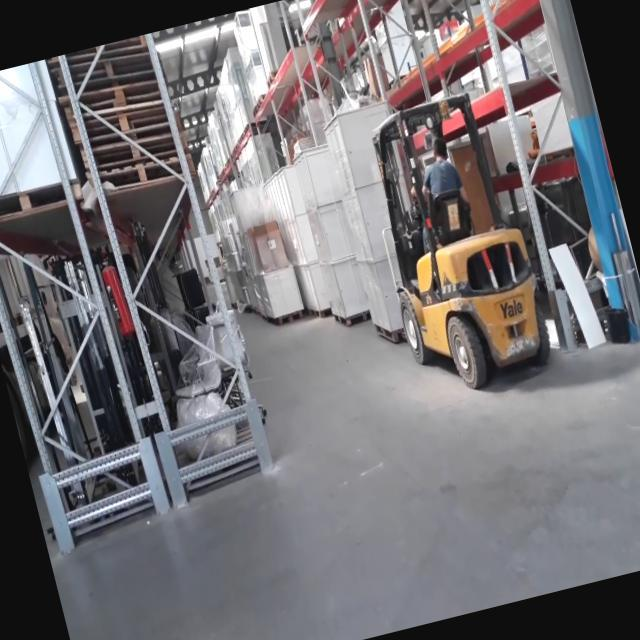driver: (399, 126, 478, 250)
forklift: (344, 79, 563, 410)
